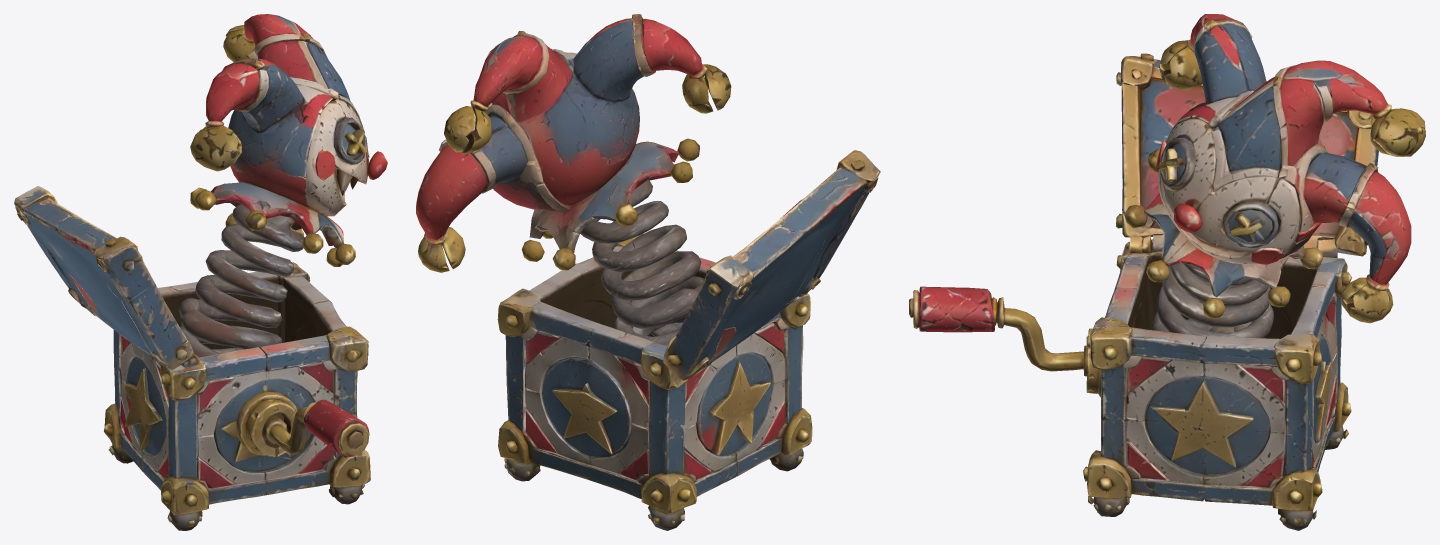
The model's file is m2JackBoxBoss.glb.
3 views of the same model, side by side, from view 1: azimuth 30°, elevation 25°; view 2: azimuth 150°, elevation 25°; view 3: azimuth 270°, elevation 25° (orthographic). The views are drawn at different scales.
Visible parts, largest first — view 1: model; view 2: model; view 3: model.
Boxes of the visible parts, left/top/right/bottom form: model: left=14, top=14, right=387, bottom=530; model: left=416, top=14, right=880, bottom=530; model: left=909, top=14, right=1425, bottom=530.
Bounding box in the file's own units: 1.52 × 1.91 × 1.89.
Materials: 1 (1 with a texture image).
